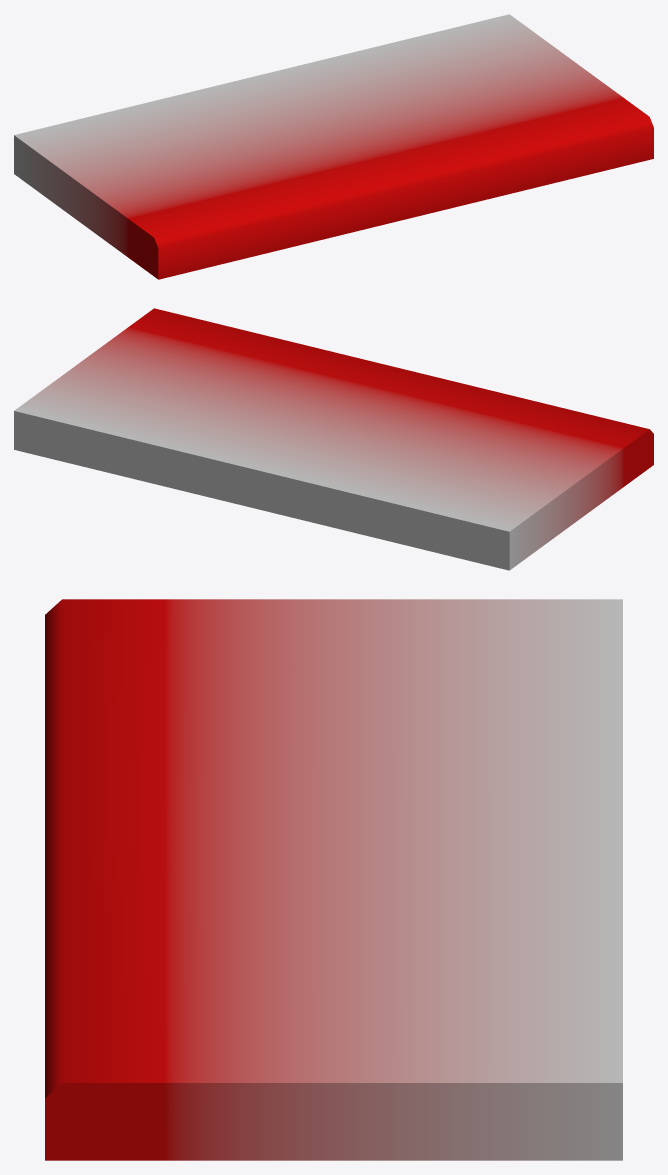
File: Sidewalk_Straight_1x2m.gltf
3 renders of one model, top to bottom at view 1: azimuth 30°, elevation 25°; view 2: azimuth 150°, elevation 25°; view 3: azimuth 270°, elevation 25°, orthographic. The views are drawn at different scales.
Visible parts, largest first — view 1: Sidewalk_Straight_1x2m; view 2: Sidewalk_Straight_1x2m; view 3: Sidewalk_Straight_1x2m.
Part boxes in pixels (left/top/right/bottom): Sidewalk_Straight_1x2m: left=14, top=14, right=653, bottom=279; Sidewalk_Straight_1x2m: left=14, top=308, right=653, bottom=570; Sidewalk_Straight_1x2m: left=45, top=599, right=622, bottom=1160.
Size of what is drawn, in the model's own units: 2 by 0.15 by 1.01.
